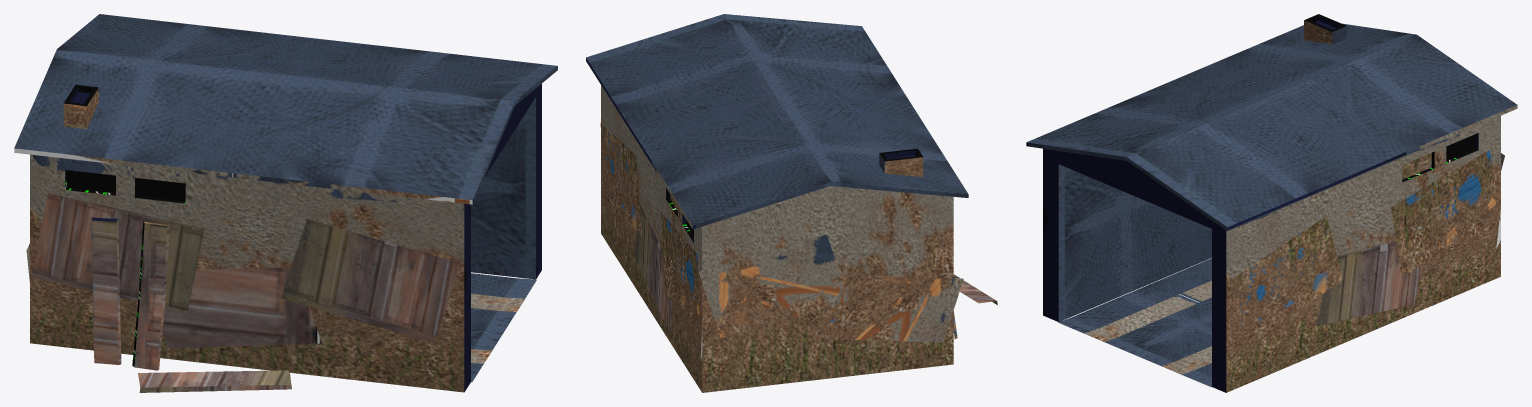
File: assets_garage.fbx
3 renders of one model, left to right at view 1: azimuth 30°, elevation 25°; view 2: azimuth 150°, elevation 25°; view 3: azimuth 270°, elevation 25°, orthographic. The views are drawn at different scales.
Parts seen in each view (by area): view 1: Garage; view 2: Garage; view 3: Garage.
Part boxes in pixels (<box>): Garage: <box>14,14,557,392</box>; Garage: <box>586,14,997,392</box>; Garage: <box>1026,14,1517,392</box>.
Bounding box in the file's own units: 457 × 208 × 457.
1 material, 1 textured.
